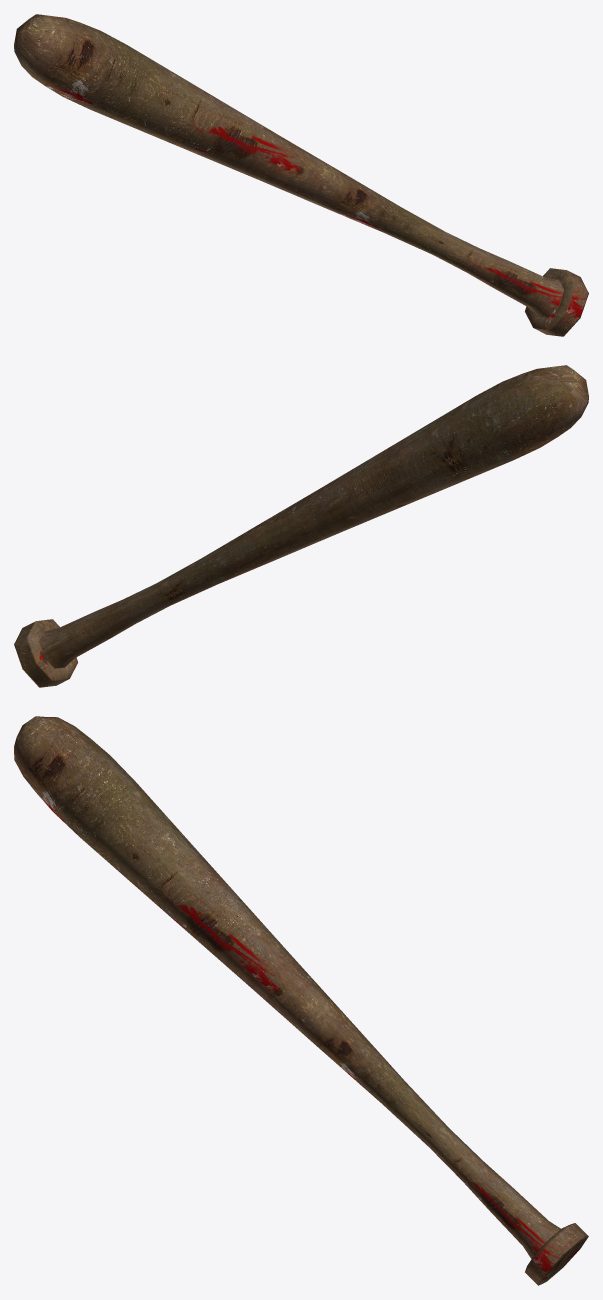
Rendered from FbxBat.fbx.
3 views of the same model, one above another, from view 1: azimuth 30°, elevation 25°; view 2: azimuth 150°, elevation 25°; view 3: azimuth 330°, elevation 25° (orthographic).
Parts seen in each view (by area): view 1: bate; view 2: bate; view 3: bate.
Part boxes in pixels (x1,y1,x2,y2): bate: [14, 14, 588, 336]; bate: [14, 365, 588, 687]; bate: [14, 716, 588, 1285].
Size of the model in its own units: 12.89 by 9.61 by 1.51.
Materials: 1 (1 with a texture image).
